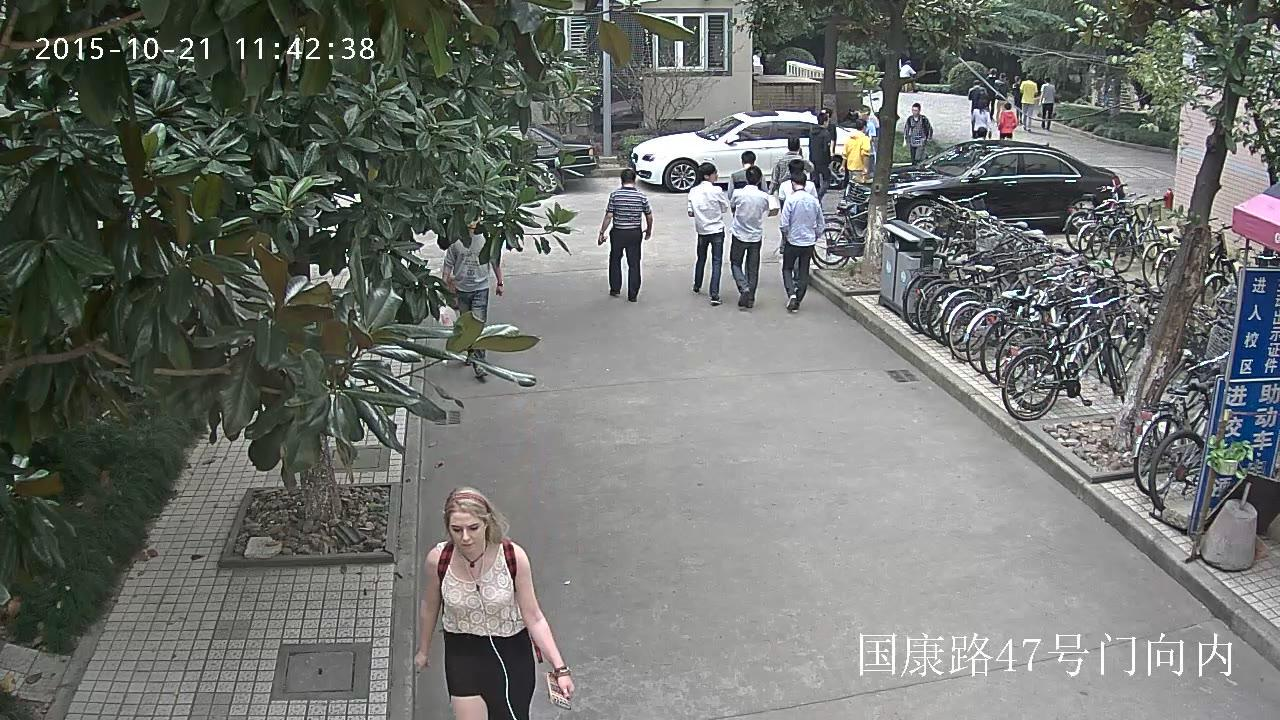person: (414, 487, 574, 720), (440, 212, 504, 378), (597, 168, 652, 304), (781, 171, 825, 312), (687, 162, 727, 304), (729, 165, 768, 308), (769, 136, 815, 200), (808, 112, 833, 207), (778, 159, 817, 212), (843, 121, 870, 194), (903, 103, 933, 166), (729, 151, 767, 200), (1020, 75, 1038, 133), (1038, 77, 1055, 130), (970, 98, 991, 140), (967, 79, 988, 117), (997, 102, 1016, 141), (984, 67, 997, 119), (994, 72, 1009, 117), (1011, 75, 1023, 125), (899, 60, 917, 92)
